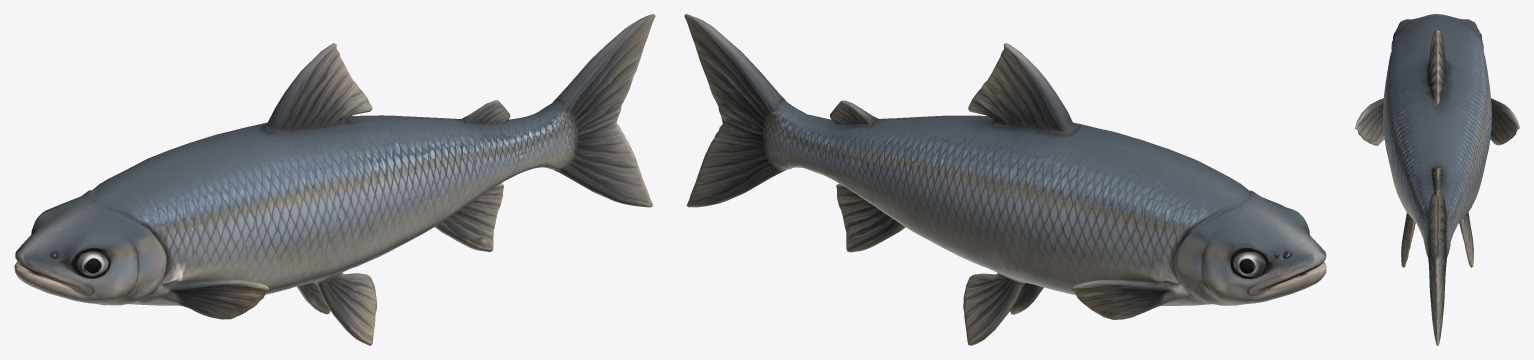
File: fish-sig.glb
3 views of the same model, side by side, from view 1: azimuth 30°, elevation 25°; view 2: azimuth 150°, elevation 25°; view 3: azimuth 270°, elevation 25° (orthographic). The views are drawn at different scales.
Visible parts, largest first — view 1: tripo_node_9002887f-08dc-4aaa-bd32-bae3bc3030b5; view 2: tripo_node_9002887f-08dc-4aaa-bd32-bae3bc3030b5; view 3: tripo_node_9002887f-08dc-4aaa-bd32-bae3bc3030b5.
Boxes of the visible parts, x1,y1,x2,y2 form: tripo_node_9002887f-08dc-4aaa-bd32-bae3bc3030b5: (14, 14, 655, 345); tripo_node_9002887f-08dc-4aaa-bd32-bae3bc3030b5: (684, 14, 1326, 345); tripo_node_9002887f-08dc-4aaa-bd32-bae3bc3030b5: (1355, 14, 1519, 345).
Bounding box in the file's own units: 1 × 0.4345 × 0.2802.
1 material, 1 textured.
